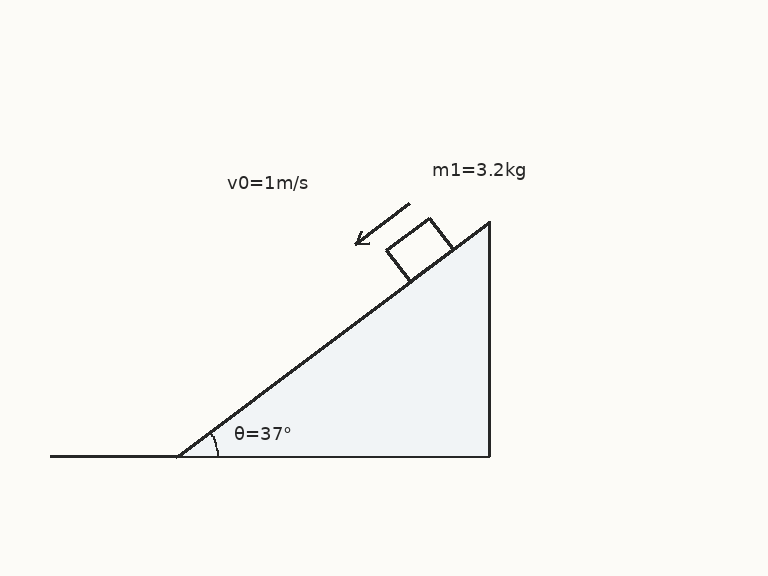block: (384, 216, 455, 283)
ramp: (176, 220, 491, 458)
